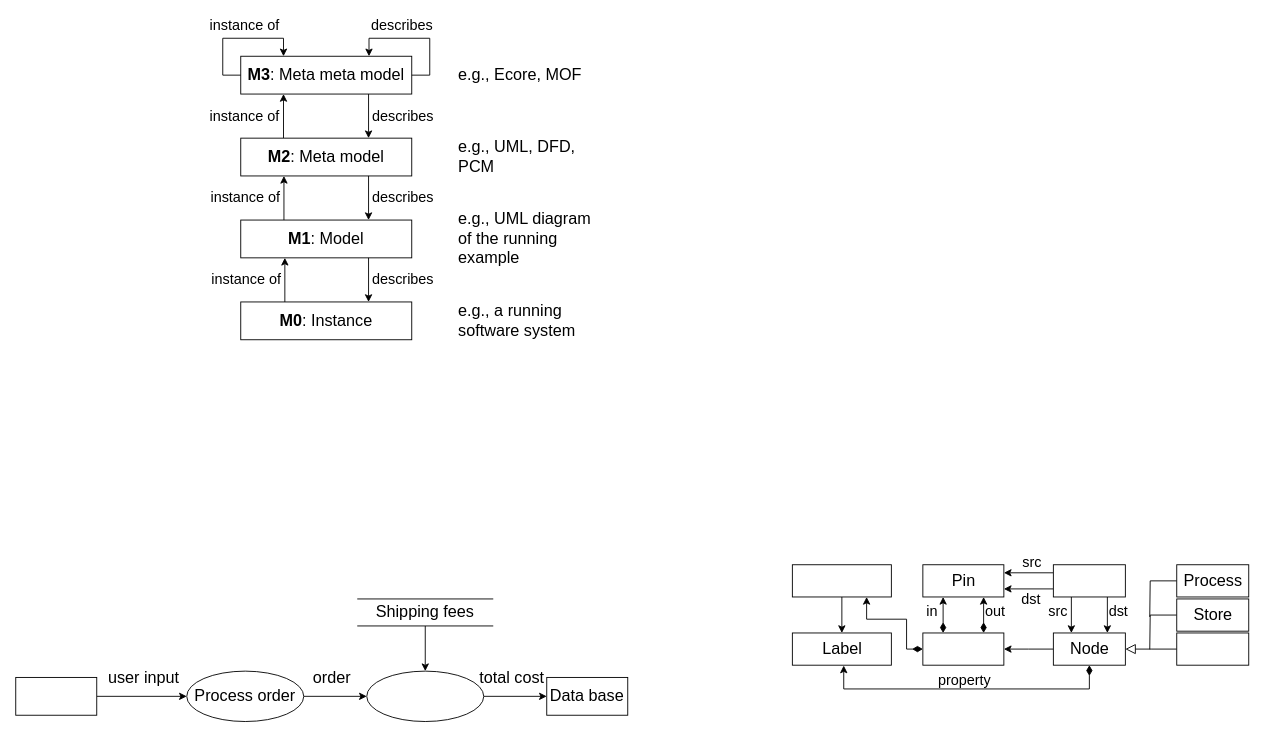
Some shapes in this 1265 by 743 pixel diagram are drawn without their labels. The centre of each missing label's shape, as x and y in pixels:
"Assignment" goes at (x=841, y=580).
"Behavior" goes at (x=963, y=648).
"Calculate sum" goes at (x=425, y=696).
"External" goes at (x=1212, y=648).
"Flow" goes at (x=1088, y=580).
"User" goes at (x=56, y=696).
